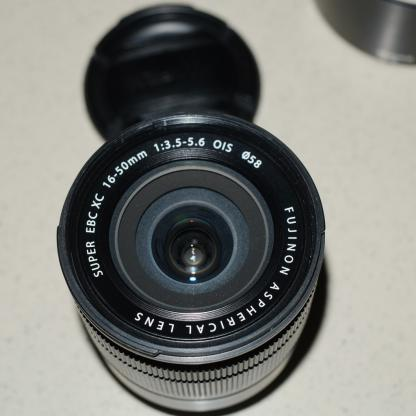Camera: (55, 111, 329, 416)
